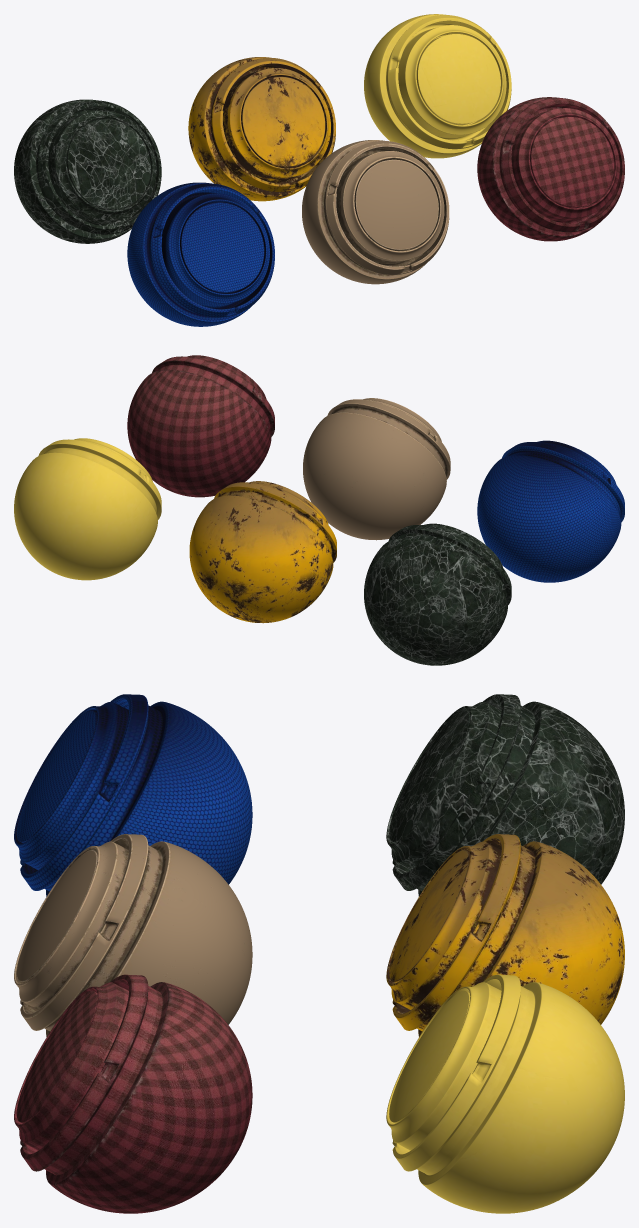
3 renders of one model, top to bottom at view 1: azimuth 30°, elevation 25°; view 2: azimuth 150°, elevation 25°; view 3: azimuth 270°, elevation 25°, orthographic. The views are drawn at different scales.
Parts seen in each view (by area): view 1: PreviewSphere.004, PreviewSphere.005, PreviewSphere.003, PreviewSphere.002, PreviewSphere.001, PreviewSphere; view 2: PreviewSphere.001, PreviewSphere.002, PreviewSphere, PreviewSphere.005, PreviewSphere.004, PreviewSphere.003; view 3: PreviewSphere.004, PreviewSphere.001, PreviewSphere, PreviewSphere.003, PreviewSphere.002, PreviewSphere.005.
Boxes of the visible parts, x1,y1,x2,y2 form: PreviewSphere.004: [477, 97, 624, 241]; PreviewSphere.005: [127, 182, 274, 326]; PreviewSphere.003: [302, 140, 449, 284]; PreviewSphere.002: [14, 99, 161, 243]; PreviewSphere.001: [364, 14, 511, 158]; PreviewSphere: [188, 57, 335, 201]; PreviewSphere.001: [14, 438, 161, 580]; PreviewSphere.002: [364, 523, 511, 665]; PreviewSphere: [189, 481, 336, 623]; PreviewSphere.005: [477, 440, 624, 582]; PreviewSphere.004: [127, 355, 274, 497]; PreviewSphere.003: [303, 398, 450, 540]; PreviewSphere.004: [14, 974, 252, 1213]; PreviewSphere.001: [386, 974, 624, 1213]; PreviewSphere: [386, 834, 624, 1036]; PreviewSphere.003: [14, 834, 252, 1036]; PreviewSphere.002: [386, 694, 624, 896]; PreviewSphere.005: [14, 694, 252, 896].
Size of the model in its own units: 3.78 by 1 by 2.56.
6 materials, 6 textured.
